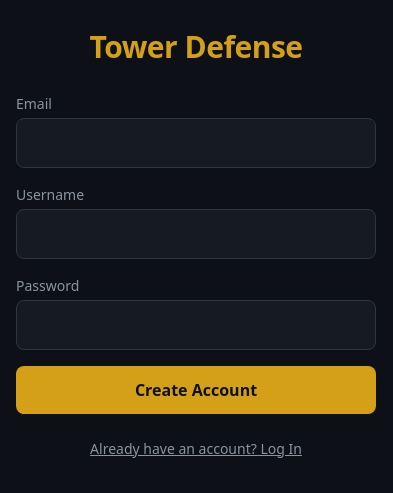
Register › displays the error message when registration fails
Step 1. Type "bob@example.com" into the field labelled "Email" → (196, 142), box [16,118,376,168]
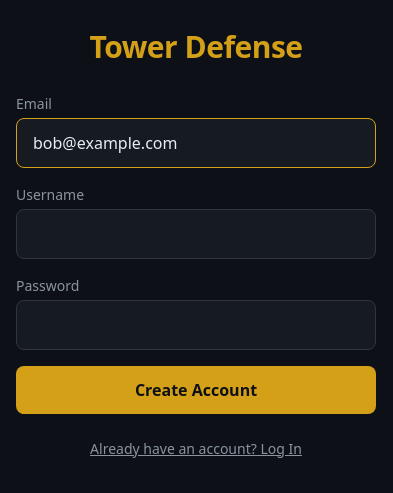
Step 2. Type "bob99" into the field labelled "Username" → (196, 234), box [16,208,376,258]
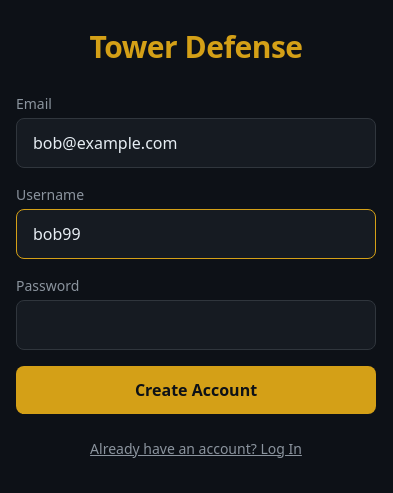
Step 3. Type "supersecret123" into the password field labelled "Password" → (196, 324), box [16,300,376,350]
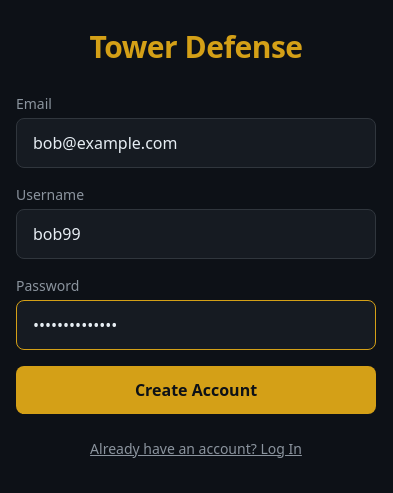
Step 4. Click the button "Create Account" → (196, 390), box [16,366,376,414]
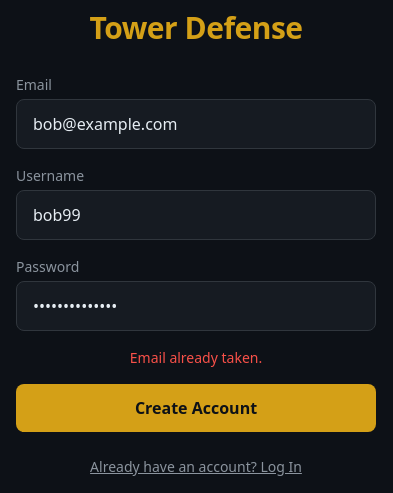
Expected: the message reads "Email already taken.", [130,348,262,367]
